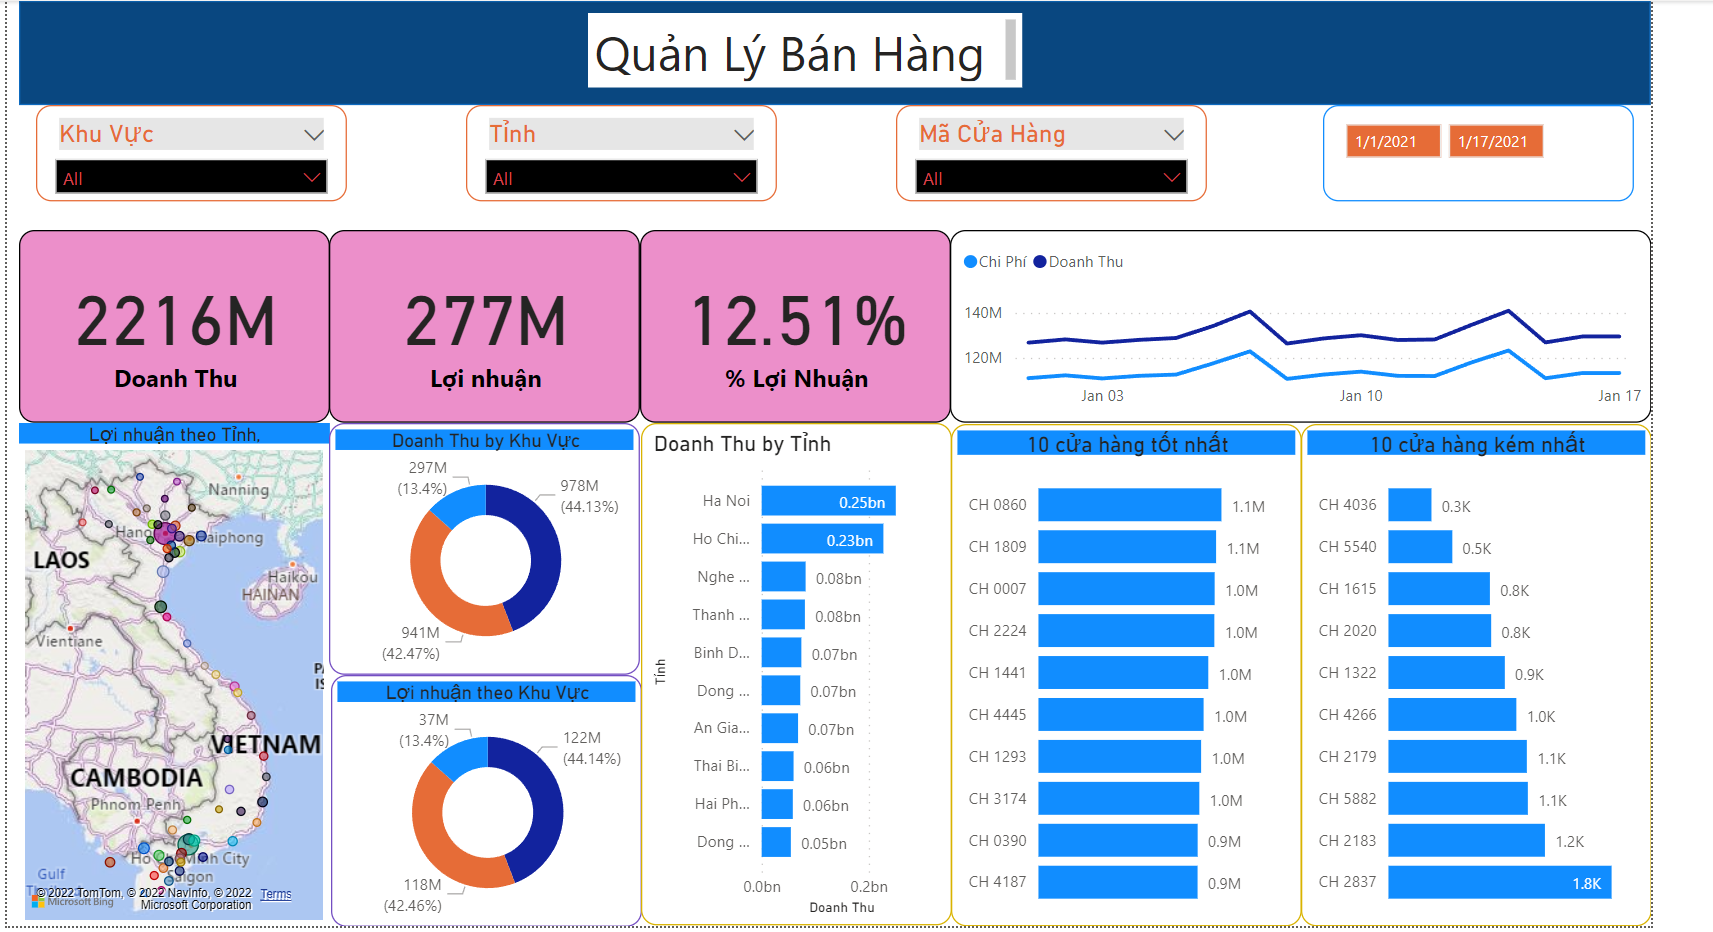

The page's visual inventory and layout, read from the dashboard file:
{"tool":"powerbi","page":{"name":"Page 1","canvas":[1280,720],"ordinal":0},"visuals":[{"type":"shape","box":[9.7,0,1270.3,80.7],"z":0},{"type":"textbox","box":[452.3,9.7,337.5,58.4],"z":1000},{"type":"slicer","fields":{"Values":["DS Tinh.Khu Vực"]},"box":[22.4,81.1,242.4,75],"z":2000},{"type":"slicer","fields":{"Values":["DS Tinh.Tỉnh"]},"box":[357.1,81.1,242.4,75],"z":3000},{"type":"slicer","fields":{"Values":["DS Cua Hang.Mã Cửa Hàng"]},"box":[691.8,81.1,242.4,75],"z":4000},{"type":"slicer","fields":{"Values":["Ket Qua KD.Ngày"]},"box":[1024.7,81.1,242.4,75],"z":5000},{"type":"card","fields":{"Values":["Sum(Ket Qua KD.Doanh Thu)"]},"box":[9.5,178.5,241.5,150.1],"z":6000},{"type":"card","fields":{"Values":["Sum(Ket Qua KD.Lợi nhuận)"]},"box":[251,178.5,241.5,150.1],"z":7000},{"type":"card","fields":{"Values":["DS Cua Hang.% Lợi Nhuận"]},"box":[492.5,178.5,241.5,150.1],"z":8000},{"type":"lineChart","fields":{"Y":["Sum(Ket Qua KD.Chi Phí)","Sum(Ket Qua KD.Doanh Thu)"],"Category":["Ket Qua KD.Ngày"]},"box":[734,178.5,546,150.1],"z":8001},{"type":"map","title":"Lợi nhuận theo Tỉnh,","fields":{"Series":["DS Tinh.Tỉnh"],"Y":["DS Tinh.latitude"],"X":["DS Tinh.longitude"],"Size":["Sum(Ket Qua KD.Lợi nhuận)"]},"box":[9.5,328.6,242.4,391.6],"z":8002},{"type":"donutChart","fields":{"Category":["DS Tinh.Khu Vực"],"Y":["Sum(Ket Qua KD.Doanh Thu)"]},"box":[251,328.6,242.4,195.8],"z":8003},{"type":"donutChart","title":"Lợi nhuận theo Khu Vực","fields":{"Category":["DS Tinh.Khu Vực"],"Y":["Sum(Ket Qua KD.Lợi nhuận)"]},"box":[251.9,524.4,241.5,195.8],"z":8004},{"type":"barChart","fields":{"Category":["DS Tinh.Tỉnh"],"Y":["Sum(Ket Qua KD.Doanh Thu)"]},"box":[493.1,328.8,242.2,391],"z":8005},{"type":"barChart","title":"10 cửa hàng tốt nhất","fields":{"Category":["Ket Qua KD.Mã Cửa Hàng"],"Y":["Sum(Ket Qua KD.Doanh Thu)"]},"box":[734.6,329.4,272.7,390.8],"z":8006},{"type":"barChart","title":"10 cửa hàng kém nhất","fields":{"Category":["Ket Qua KD.Mã Cửa Hàng"],"Y":["Sum(Ket Qua KD.Doanh Thu)"]},"box":[1007.3,329.4,272.7,390.8],"z":8007}]}

Visuals, with their boxes in screenshot pixels (x1, y1, x2, y2):
shape: bbox(21, 0, 1643, 103)
textbox: bbox(587, 12, 1018, 87)
slicer - DS Tinh.Khu Vực: bbox(38, 104, 347, 199)
slicer - DS Tinh.Tỉnh: bbox(465, 104, 774, 199)
slicer - DS Cua Hang.Mã Cửa Hàng: bbox(892, 104, 1202, 199)
slicer - Ket Qua KD.Ngày: bbox(1317, 104, 1627, 199)
card - Sum(Ket Qua KD.Doanh Thu): bbox(21, 228, 329, 420)
card - Sum(Ket Qua KD.Lợi nhuận): bbox(329, 228, 638, 420)
card - DS Cua Hang.% Lợi Nhuận: bbox(638, 228, 946, 420)
lineChart - Sum(Ket Qua KD.Chi Phí) x Sum(Ket Qua KD.Doanh Thu): bbox(946, 228, 1643, 420)
"Lợi nhuận theo Tỉnh," map: bbox(21, 420, 331, 920)
donutChart - DS Tinh.Khu Vực x Sum(Ket Qua KD.Doanh Thu): bbox(329, 420, 639, 670)
"Lợi nhuận theo Khu Vực" donutChart: bbox(331, 670, 639, 920)
barChart - DS Tinh.Tỉnh x Sum(Ket Qua KD.Doanh Thu): bbox(639, 420, 948, 919)
"10 cửa hàng tốt nhất" barChart: bbox(947, 421, 1295, 920)
"10 cửa hàng kém nhất" barChart: bbox(1295, 421, 1643, 920)
